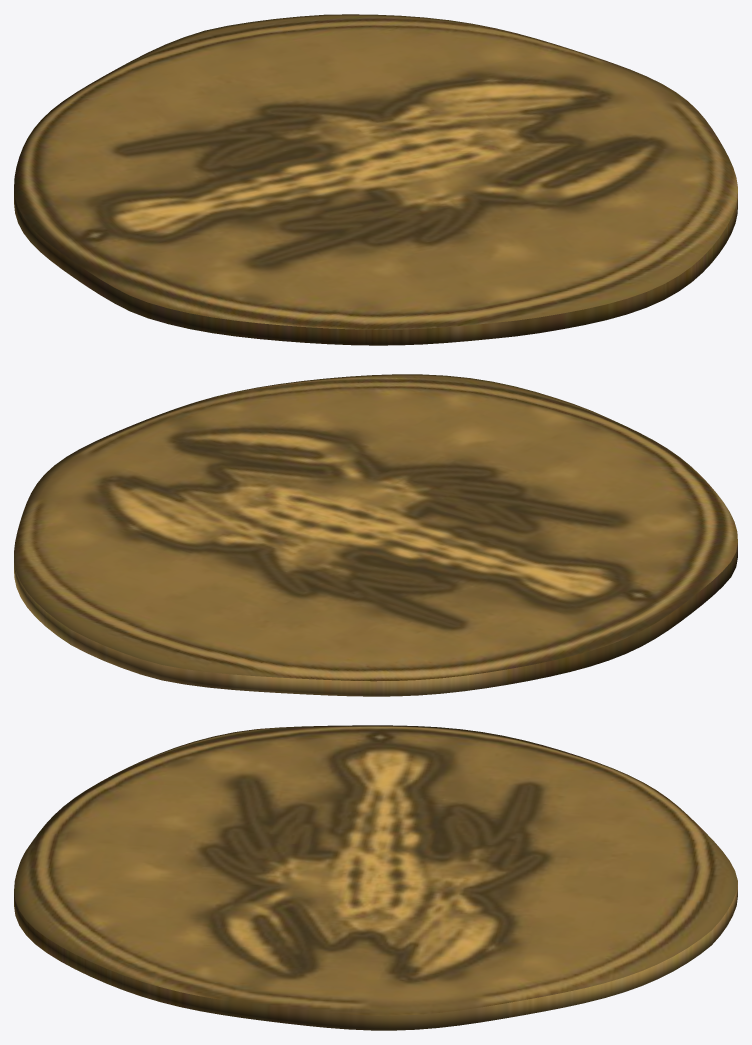
The model's file is zodiac_04.glb.
3 renders of one model, top to bottom at view 1: azimuth 30°, elevation 25°; view 2: azimuth 150°, elevation 25°; view 3: azimuth 270°, elevation 25°, orthographic. The views are drawn at different scales.
Visible parts, largest first — view 1: zodiac_04; view 2: zodiac_04; view 3: zodiac_04.
Part boxes in pixels (<box>): zodiac_04: <box>14,14,737,345</box>; zodiac_04: <box>14,374,737,696</box>; zodiac_04: <box>14,725,737,1030</box>.
Size of the model in its own units: 0.9315 by 0.0407 by 0.9819.
1 material, 1 textured.
